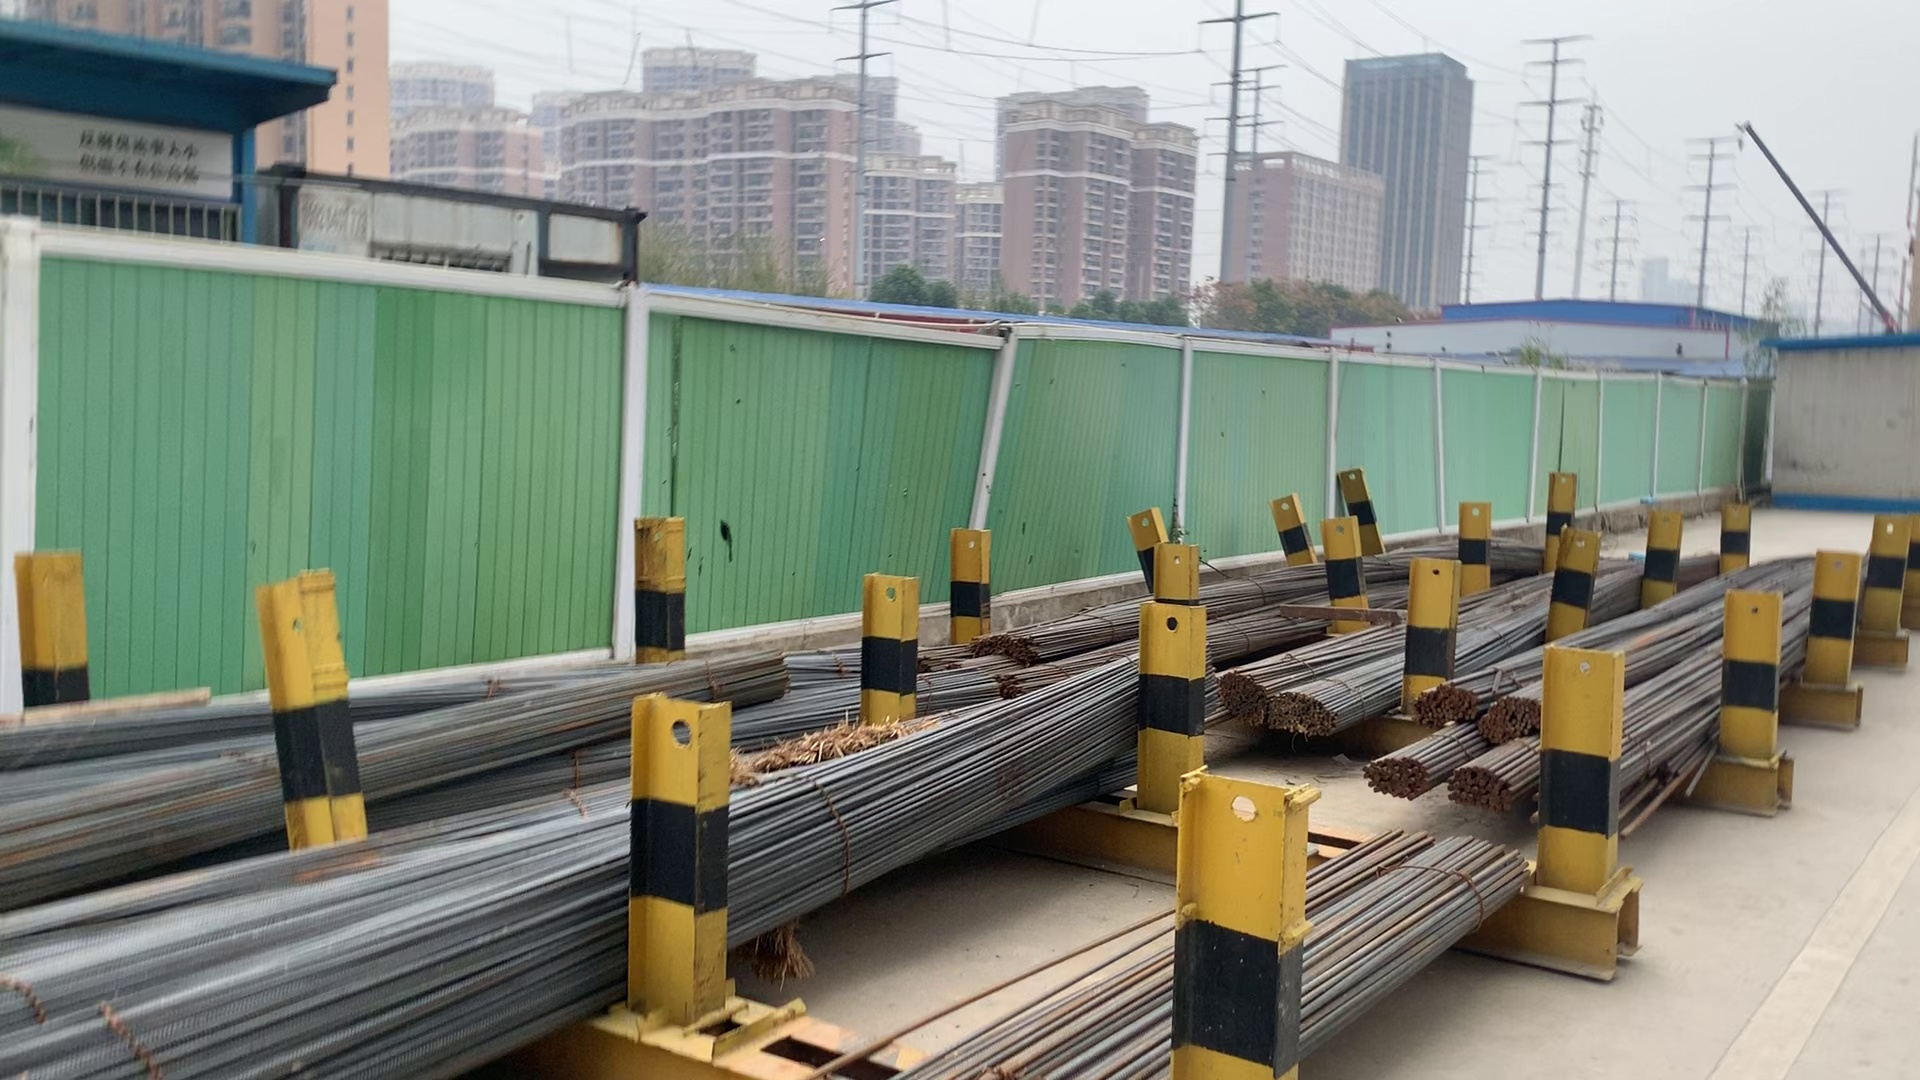rebar: (1443, 762, 1513, 816), (1269, 692, 1337, 737), (1412, 680, 1473, 727), (1367, 756, 1429, 800), (1222, 670, 1266, 731), (1481, 696, 1538, 742), (996, 670, 1022, 696)
